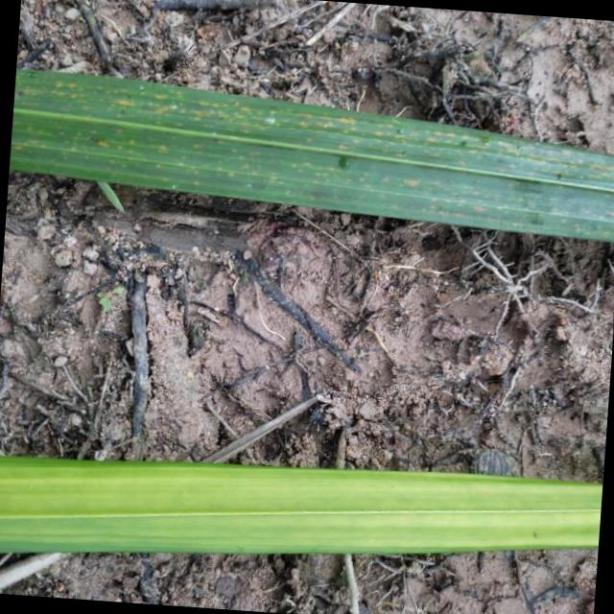nitrogen: (9, 70, 614, 238), (0, 456, 595, 555)
